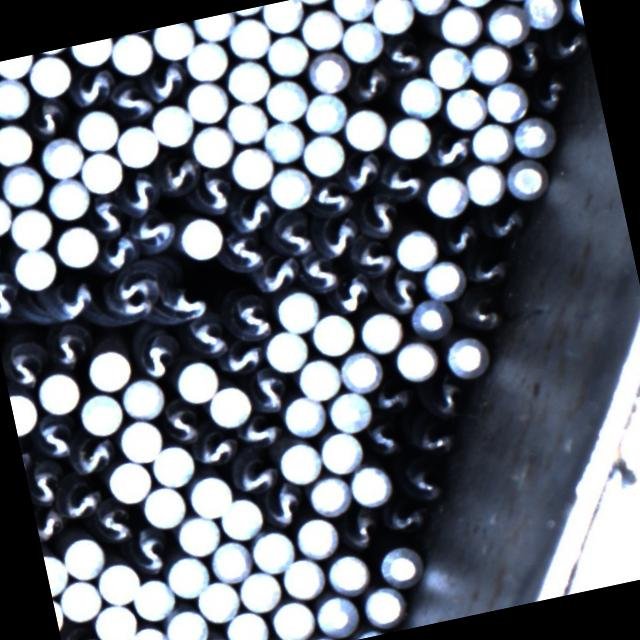tool: (136, 479, 191, 531), (334, 344, 388, 396), (245, 523, 298, 575), (333, 15, 385, 68), (272, 434, 324, 486), (102, 454, 154, 506), (260, 324, 312, 376), (421, 40, 474, 91), (383, 111, 435, 162), (388, 335, 442, 384), (290, 511, 341, 562), (314, 427, 365, 478), (306, 308, 357, 359), (439, 82, 489, 134), (264, 162, 316, 212), (82, 343, 134, 393), (220, 54, 272, 104), (296, 128, 346, 180), (174, 212, 224, 264), (276, 552, 327, 602), (309, 589, 359, 640), (114, 413, 164, 464), (170, 354, 220, 405), (216, 492, 266, 543), (466, 116, 515, 168), (270, 286, 322, 335), (292, 352, 342, 402), (302, 470, 352, 520), (234, 564, 284, 614), (4, 202, 54, 252), (356, 304, 406, 354), (112, 120, 162, 170), (324, 548, 374, 598), (36, 132, 86, 182), (258, 114, 308, 164), (438, 331, 488, 381), (339, 102, 389, 152), (420, 170, 470, 220), (394, 72, 444, 122), (390, 224, 440, 274), (322, 386, 373, 435), (187, 120, 236, 171), (146, 98, 195, 149), (23, 50, 72, 100), (74, 388, 124, 437), (180, 76, 229, 126), (72, 104, 122, 153), (162, 550, 211, 600), (184, 469, 234, 518), (259, 74, 308, 124), (405, 293, 455, 342), (434, 0, 485, 48), (299, 88, 348, 137), (43, 174, 92, 223), (359, 581, 408, 630), (481, 76, 530, 125), (118, 372, 167, 421), (459, 158, 507, 208), (8, 244, 58, 292), (106, 30, 156, 78), (148, 441, 198, 489), (224, 12, 272, 62), (374, 543, 424, 591), (0, 159, 47, 210), (55, 575, 103, 624), (345, 460, 393, 509), (33, 368, 82, 416), (181, 36, 231, 83), (78, 148, 126, 196), (205, 536, 253, 584), (192, 576, 240, 624), (228, 142, 276, 190), (464, 38, 512, 86), (130, 576, 178, 624), (508, 112, 556, 160), (279, 391, 328, 438), (418, 255, 467, 302), (266, 594, 316, 640), (481, 0, 528, 48), (175, 510, 222, 558), (59, 533, 106, 581), (222, 98, 269, 146), (205, 382, 252, 429), (52, 223, 99, 270), (88, 596, 138, 640), (363, 0, 419, 39), (96, 558, 142, 605), (502, 155, 548, 202), (304, 48, 350, 94), (150, 20, 196, 61), (222, 605, 273, 640), (0, 116, 35, 166), (160, 605, 208, 640), (518, 0, 567, 33), (0, 74, 33, 122), (8, 388, 41, 436), (259, 0, 304, 34), (191, 12, 235, 44), (70, 38, 114, 68), (42, 548, 70, 595), (326, 0, 377, 23), (0, 54, 36, 81), (124, 621, 172, 640), (0, 188, 14, 240)
tool_b: (222, 289, 280, 346), (0, 327, 51, 389), (60, 430, 121, 480), (126, 208, 184, 259), (266, 202, 317, 260), (31, 280, 95, 326), (185, 166, 238, 220), (422, 127, 478, 176), (214, 224, 268, 274), (44, 321, 94, 374), (256, 483, 308, 533), (334, 506, 386, 556), (116, 169, 164, 222), (246, 364, 294, 416), (228, 452, 282, 498), (231, 410, 287, 454), (124, 526, 172, 577), (157, 397, 205, 448), (86, 498, 132, 551), (315, 216, 364, 265), (94, 289, 154, 329), (27, 414, 76, 462), (381, 32, 428, 82), (408, 414, 458, 461), (225, 190, 278, 234), (162, 278, 210, 326), (456, 288, 504, 336), (133, 332, 179, 382), (358, 192, 402, 244), (214, 337, 266, 381), (26, 92, 73, 140), (376, 158, 424, 205), (182, 312, 230, 359), (107, 80, 156, 126), (378, 270, 424, 319), (399, 459, 445, 508), (83, 192, 128, 242), (189, 429, 241, 472), (307, 175, 354, 222), (334, 148, 382, 194), (248, 252, 298, 296), (378, 496, 428, 540), (344, 62, 392, 107), (24, 460, 66, 511), (142, 58, 188, 104), (545, 23, 592, 68), (479, 203, 530, 244), (530, 69, 576, 114), (67, 68, 115, 110), (442, 212, 484, 260), (352, 234, 398, 277), (329, 271, 372, 317), (54, 478, 102, 519), (92, 231, 141, 271), (158, 154, 202, 198), (362, 416, 406, 460), (424, 378, 469, 420), (300, 250, 340, 297), (110, 265, 161, 301), (370, 375, 413, 415), (462, 250, 509, 286), (510, 34, 550, 76), (0, 271, 25, 323), (33, 502, 65, 540), (59, 622, 102, 640), (0, 233, 9, 276)
